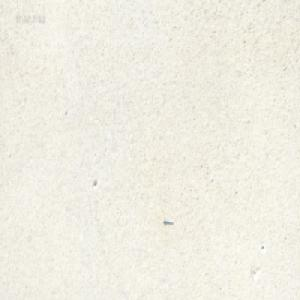Nail: (163, 218, 173, 226)
